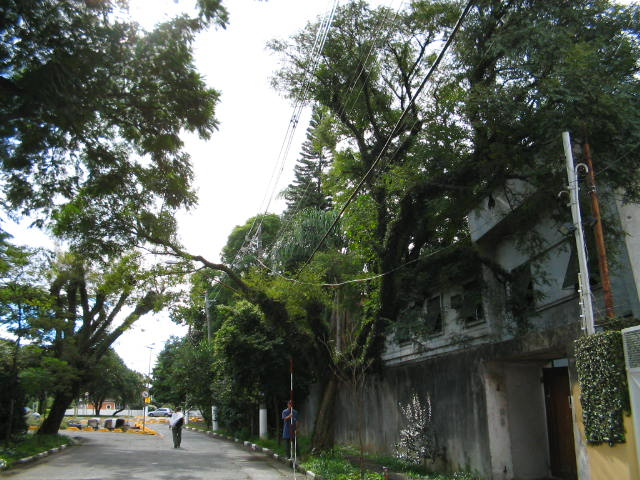stem: (302, 375, 350, 459)
stick: (286, 359, 295, 468)
tree: (227, 1, 621, 461)
